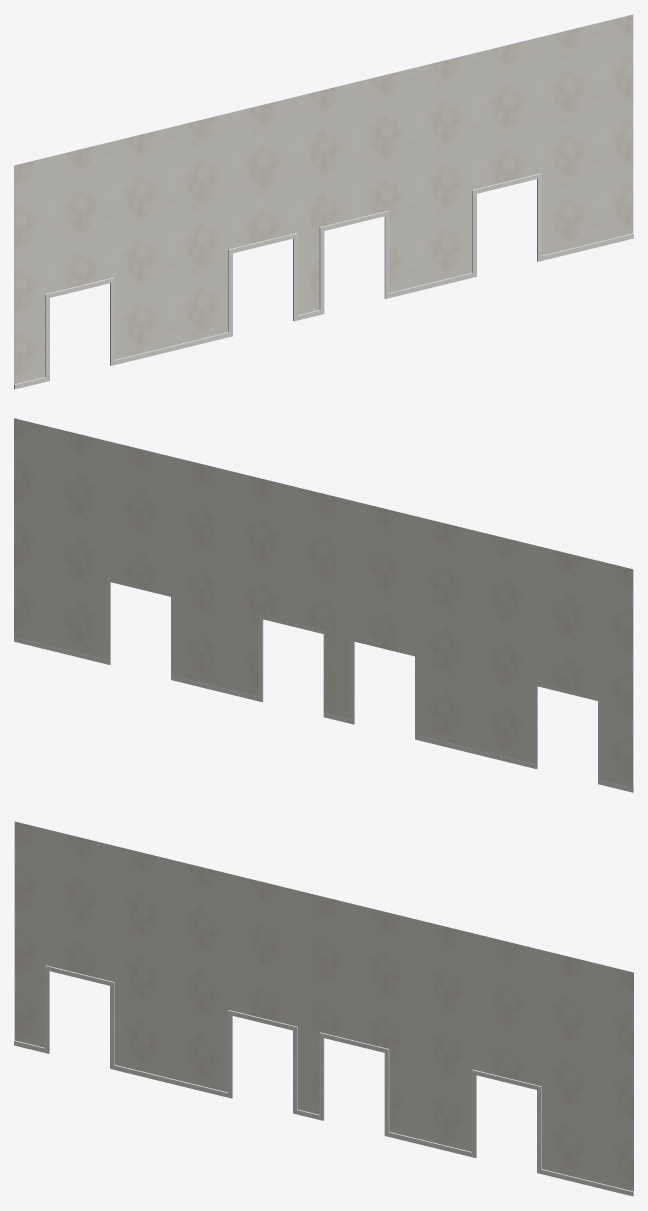
The model's file is wm_20_fd9abf84.gltf.
3 views of the same model, one above another, from view 1: azimuth 30°, elevation 25°; view 2: azimuth 150°, elevation 25°; view 3: azimuth 330°, elevation 25° (orthographic).
Visible parts, largest first — view 1: jx_wm_20_fd9abf84; view 2: jx_wm_20_fd9abf84; view 3: jx_wm_20_fd9abf84.
Part boxes in pixels (box(x1,y1,x2,y2)): jx_wm_20_fd9abf84: box(14, 14, 633, 389); jx_wm_20_fd9abf84: box(14, 418, 633, 792); jx_wm_20_fd9abf84: box(14, 821, 633, 1196).
Bounding box in the file's own units: 20.3 × 7 × 0.05.
2 materials, 2 textured.
